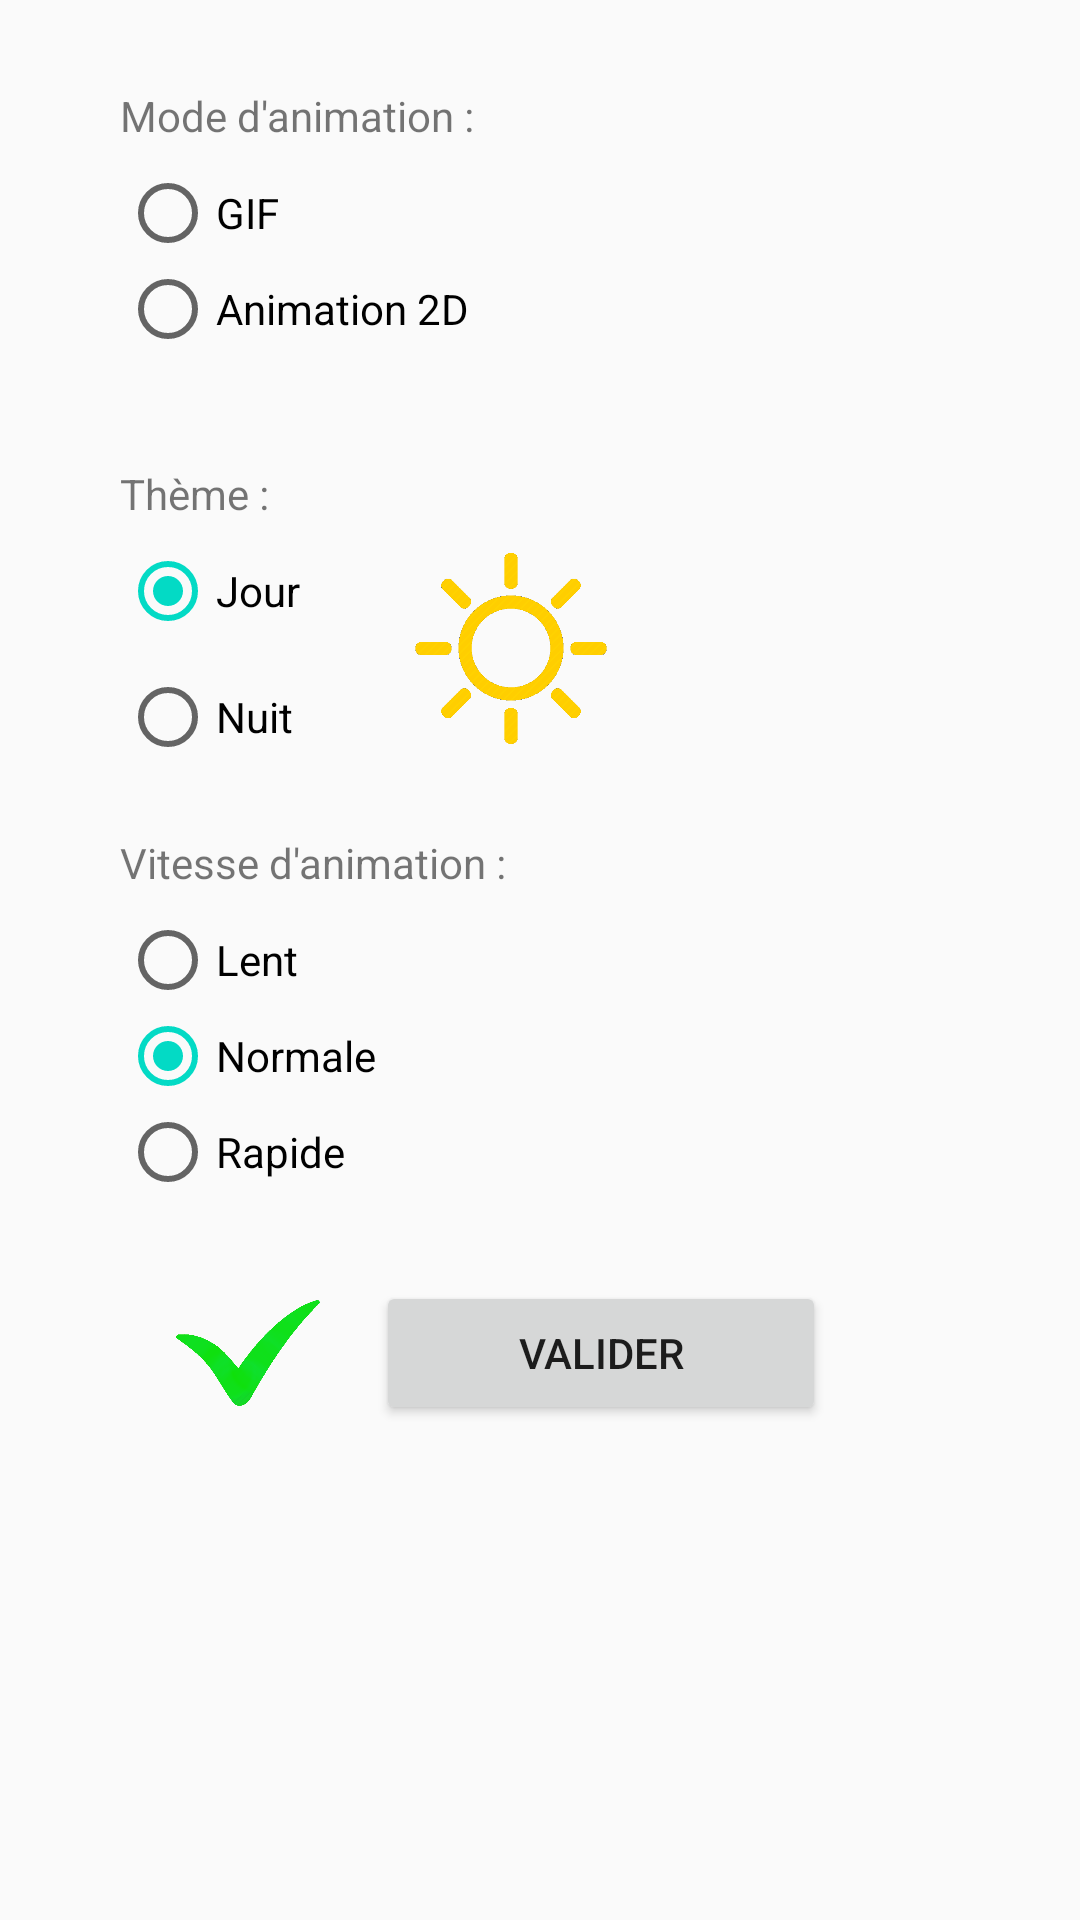

Icons on this 1080 × 1920 Android screen, each with its box as [x1, y1, x2, y2]:
sun: [415, 553, 607, 744]
validation: [176, 1300, 320, 1406]
